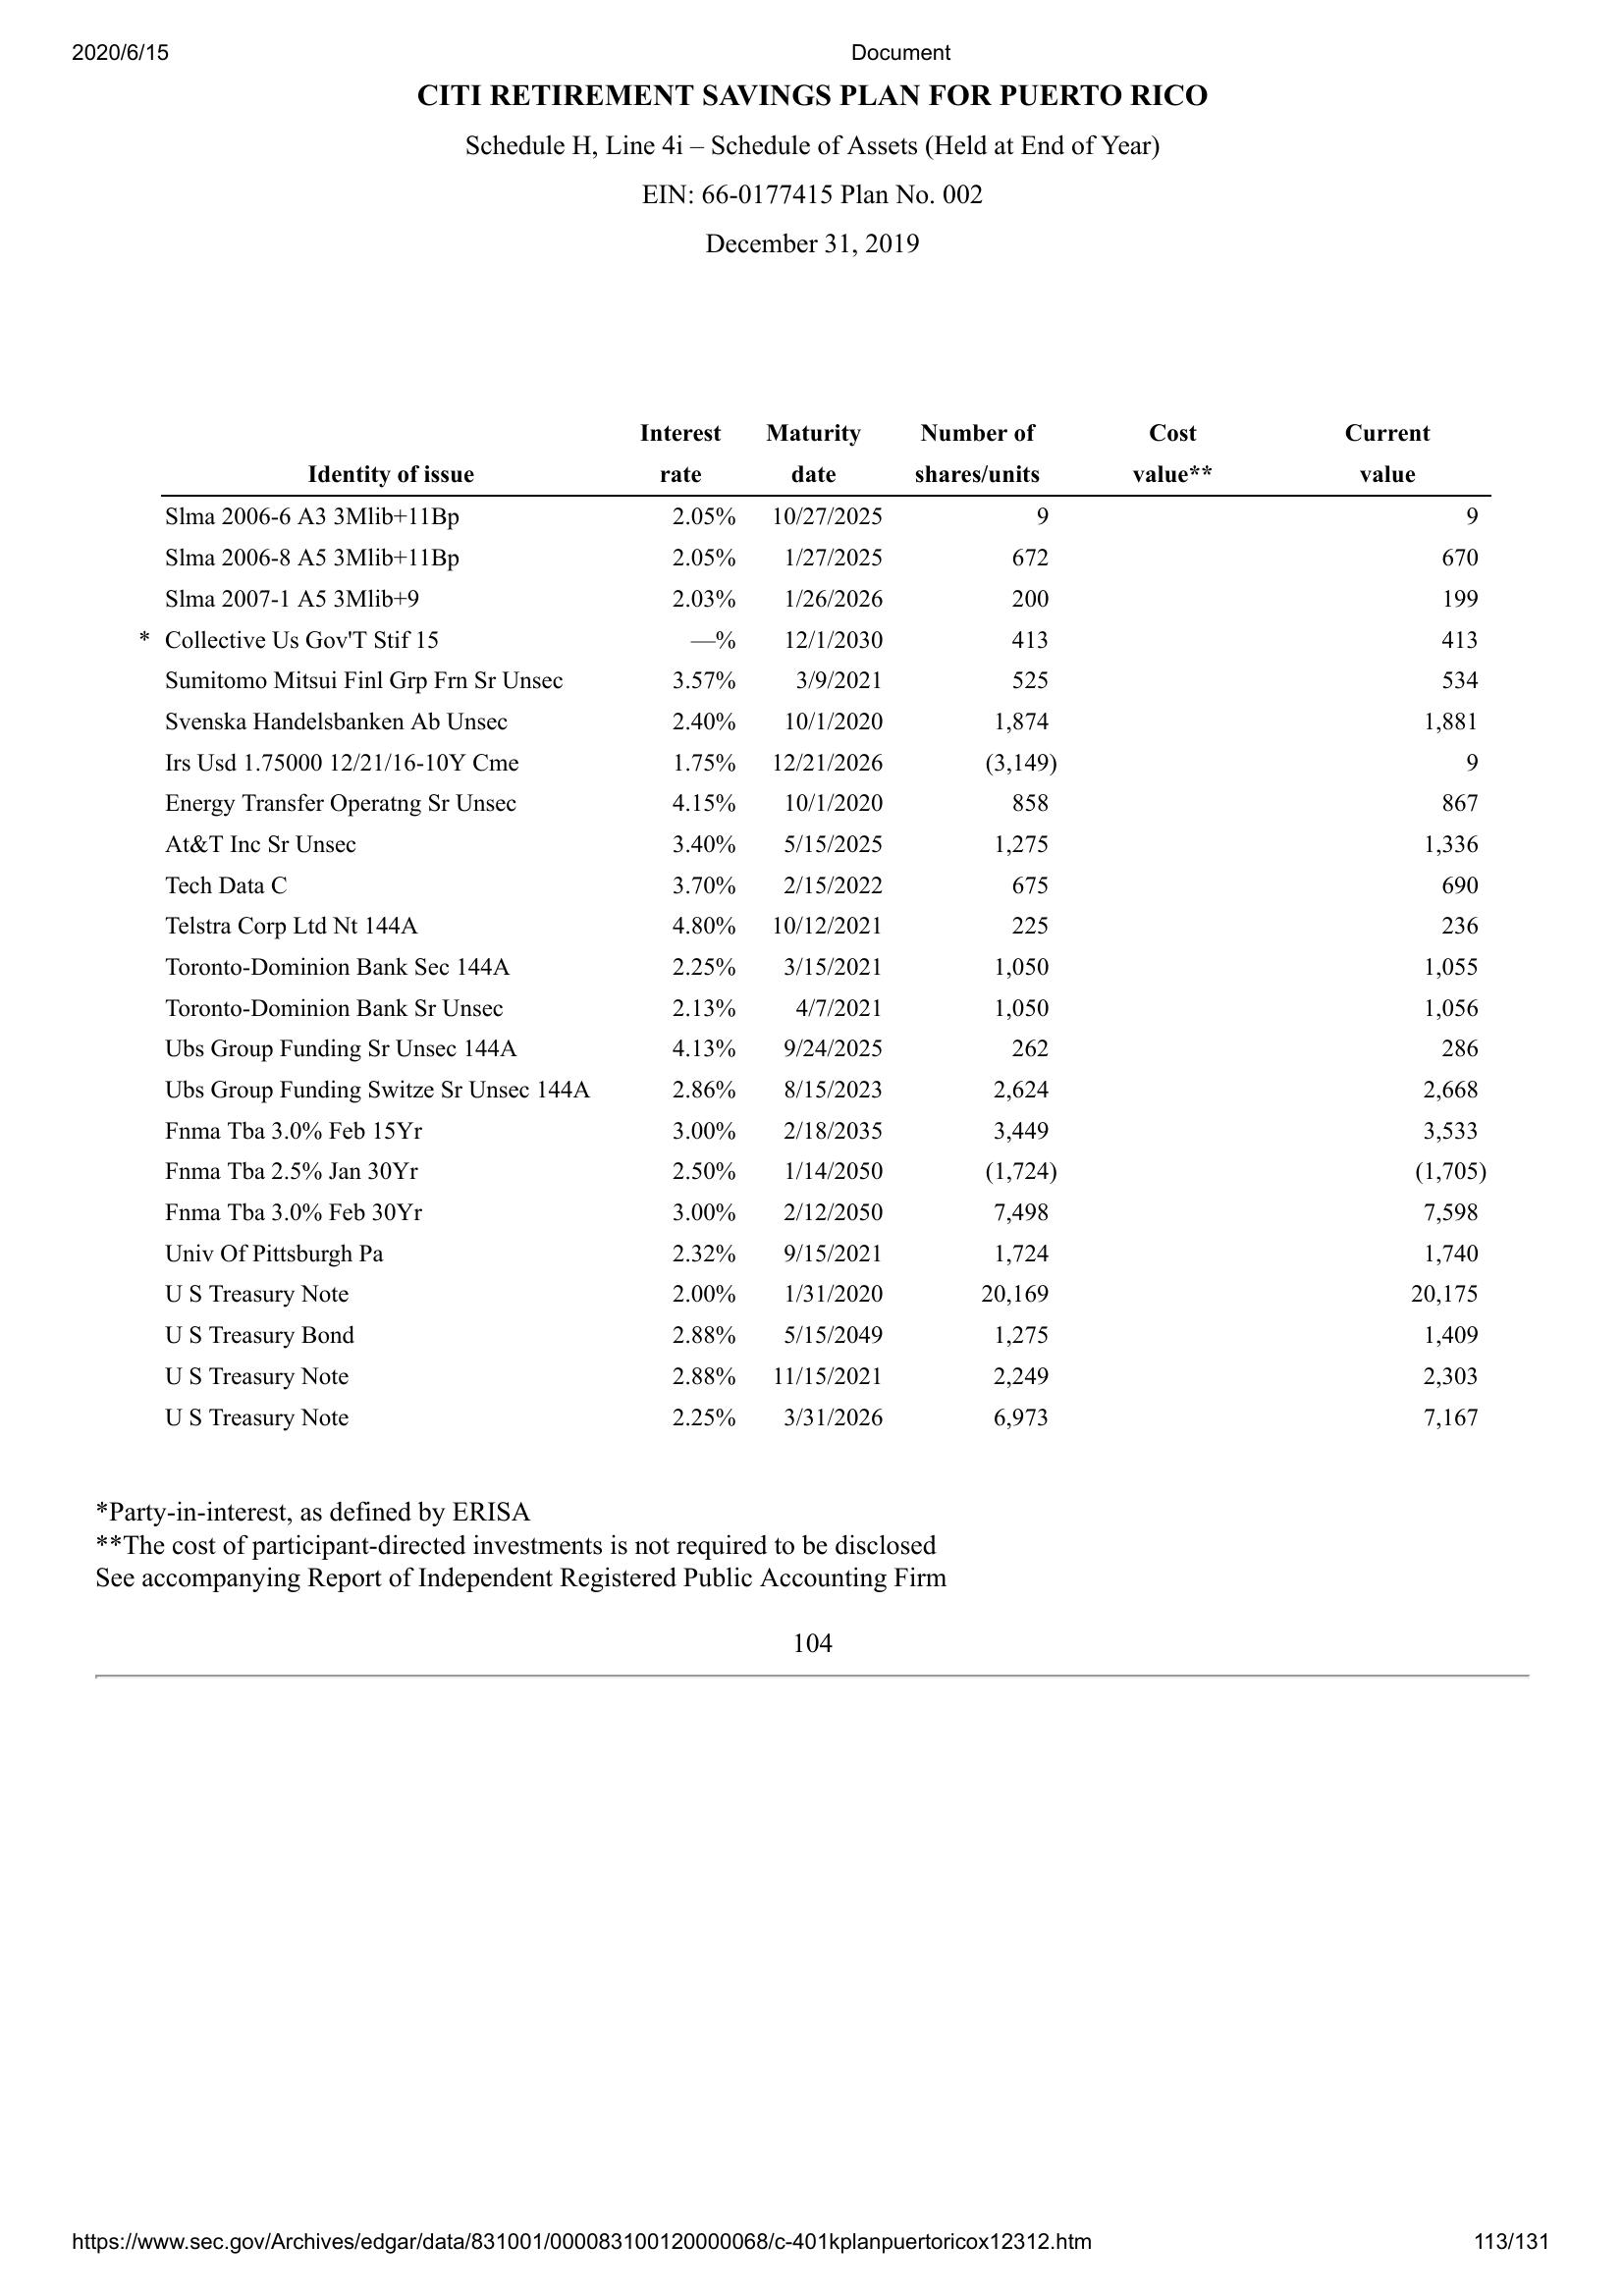table: (146, 418, 1495, 1439)
